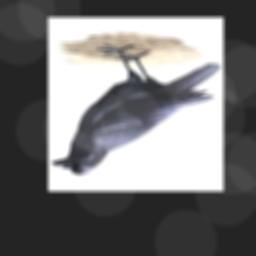Crow: (51, 42, 221, 175)
